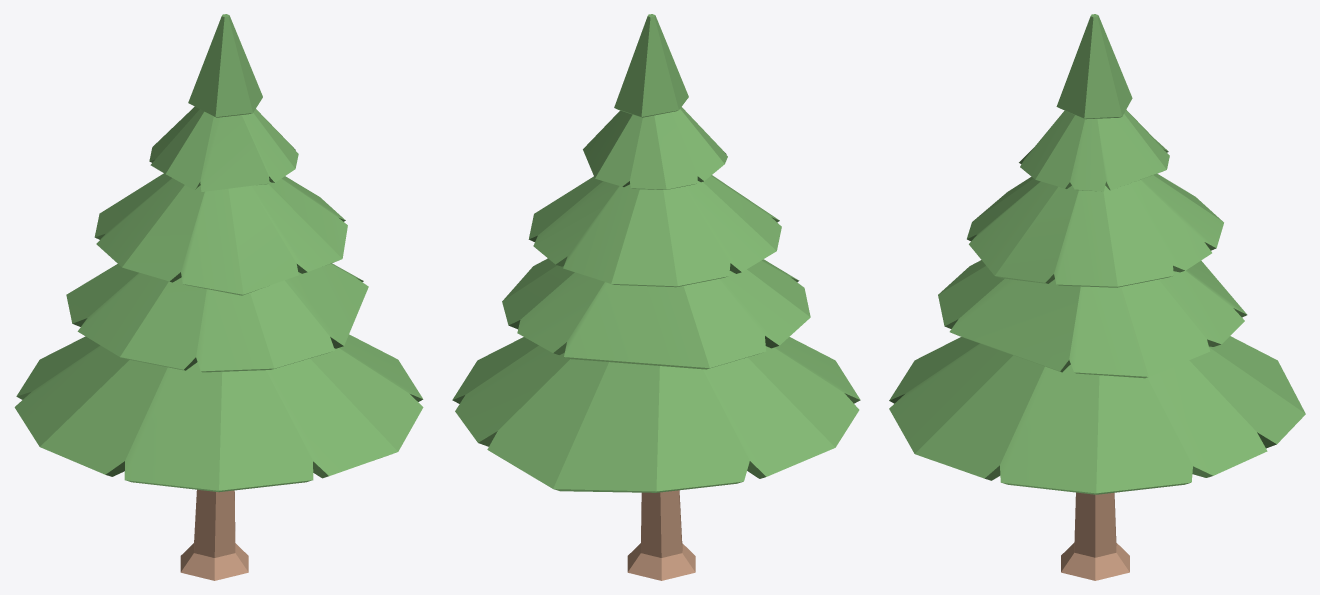
The model's file is SM_Tree_04.fbx.
3 renders of one model, left to right at view 1: azimuth 30°, elevation 25°; view 2: azimuth 150°, elevation 25°; view 3: azimuth 270°, elevation 25°, orthographic.
Visible parts, largest first — view 1: SM_Tree_04; view 2: SM_Tree_04; view 3: SM_Tree_04.
Part boxes in pixels (box(x1,y1,x2,y2)): SM_Tree_04: box(14, 14, 423, 580); SM_Tree_04: box(452, 14, 860, 580); SM_Tree_04: box(889, 14, 1305, 580).
Bounding box in the file's own units: 230 × 229 × 335.
2 materials, 2 textured.
